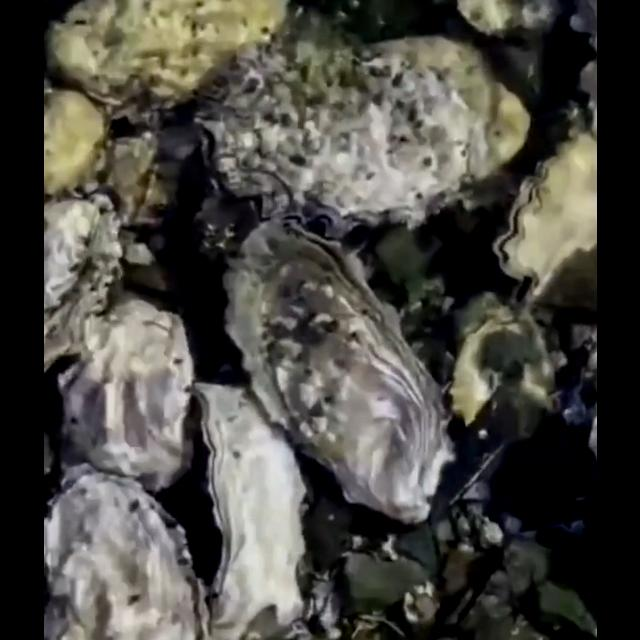Oyster-Closed: (43, 0, 287, 142), (52, 305, 196, 507), (187, 392, 303, 640), (43, 205, 121, 377), (43, 88, 105, 194), (456, 0, 562, 52)
Oyster-Open: (190, 44, 532, 255), (221, 227, 453, 535), (43, 474, 205, 640), (487, 132, 597, 326)
